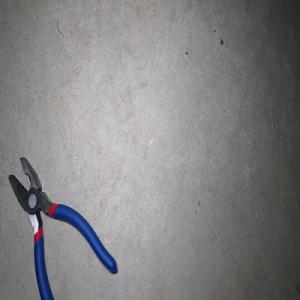Pliers: (8, 156, 117, 300)
